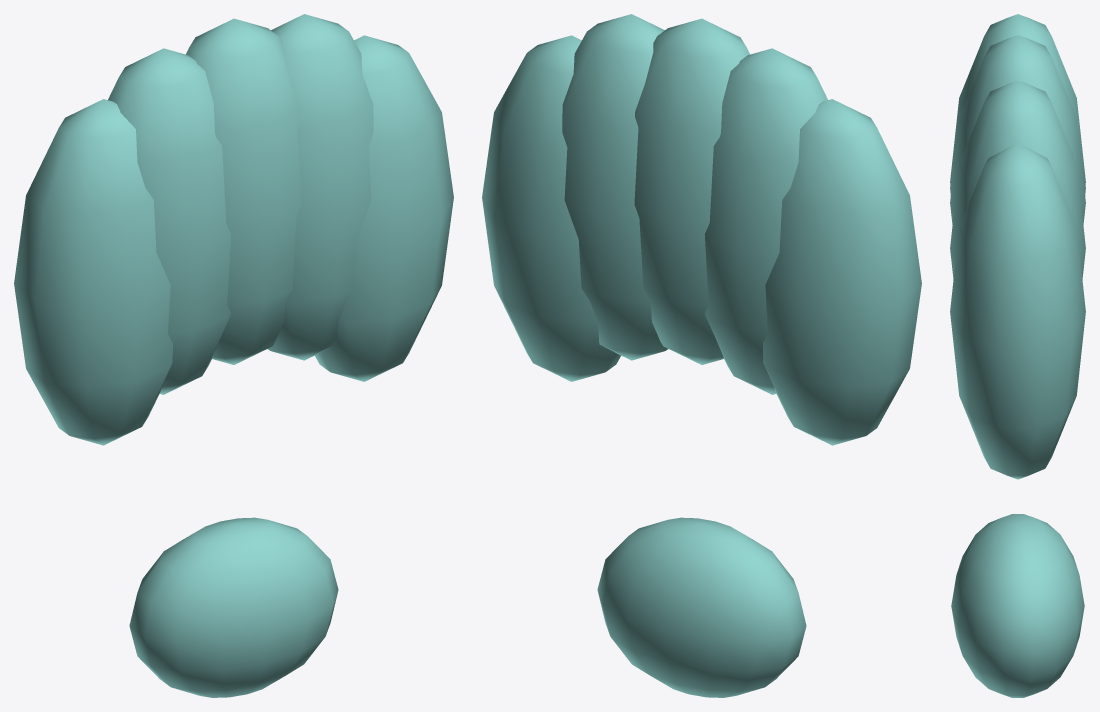
Rendered from opera_candymaker_candy_1.glb.
3 renders of one model, left to right at view 1: azimuth 30°, elevation 25°; view 2: azimuth 150°, elevation 25°; view 3: azimuth 270°, elevation 25°, orthographic. The views are drawn at different scales.
Visible parts, largest first — view 1: VisualMesh.002; view 2: VisualMesh.002; view 3: VisualMesh.002.
Boxes of the visible parts, left/top/right/bottom form: VisualMesh.002: left=14, top=14, right=453, bottom=697; VisualMesh.002: left=482, top=14, right=921, bottom=697; VisualMesh.002: left=950, top=14, right=1085, bottom=697.
Size of the model in its own units: 1.89 by 2.91 by 0.55.
